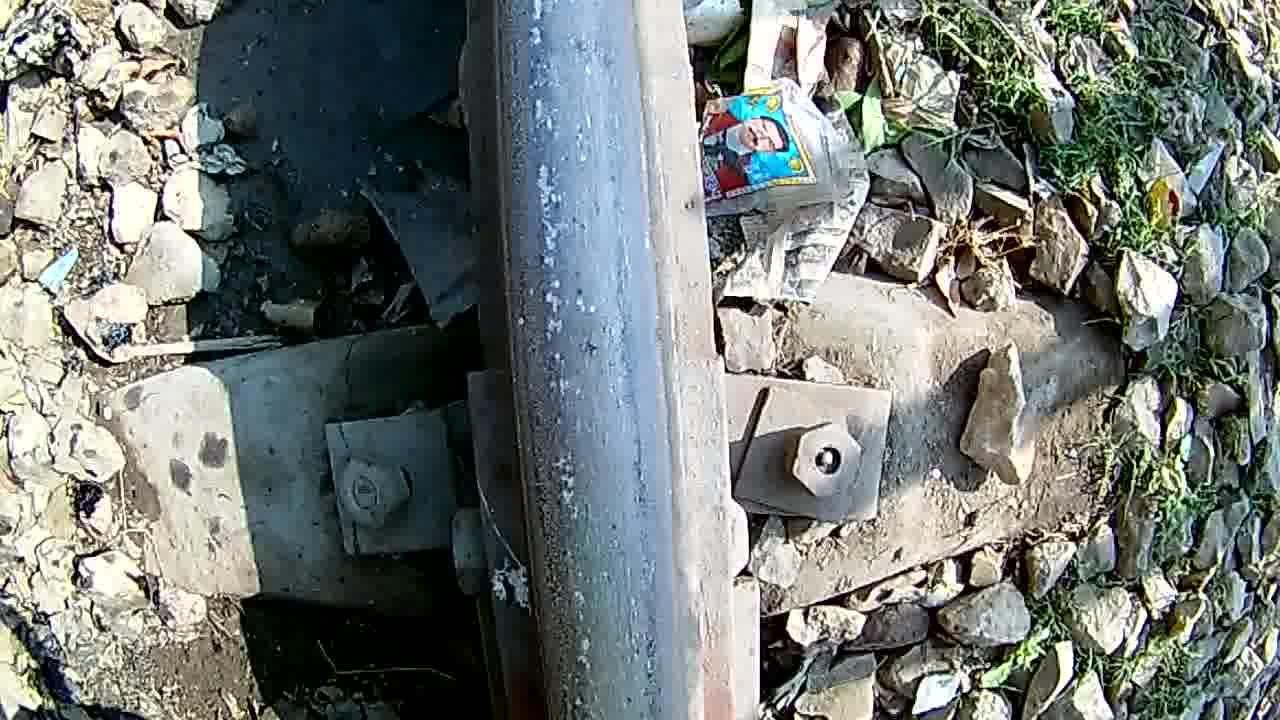crack: (487, 0, 687, 720)
